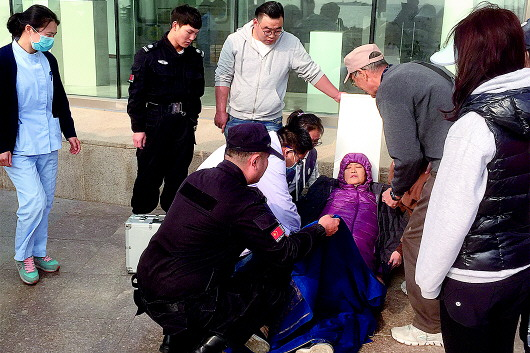fall: (252, 141, 393, 353)
